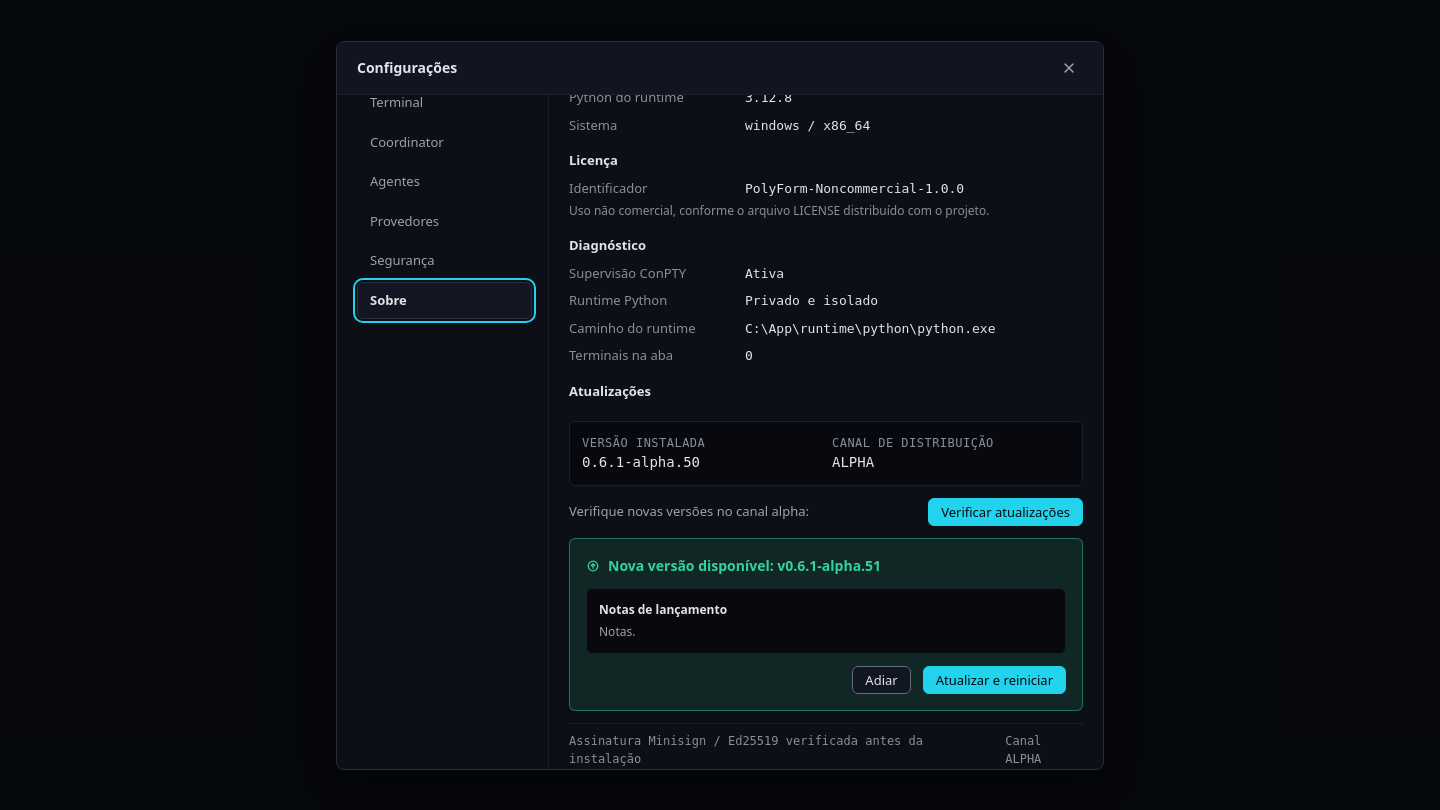
SettingsDialog — Sobre › mantém a mensagem de uma falha recuperável depois da nova verificação
The width and height of the screenshot is (1440, 810).
(page scrolled)
Click the button "Atualizar e reiniciar" at (994, 680), box top-left (923, 666), bottom-right (1066, 694)
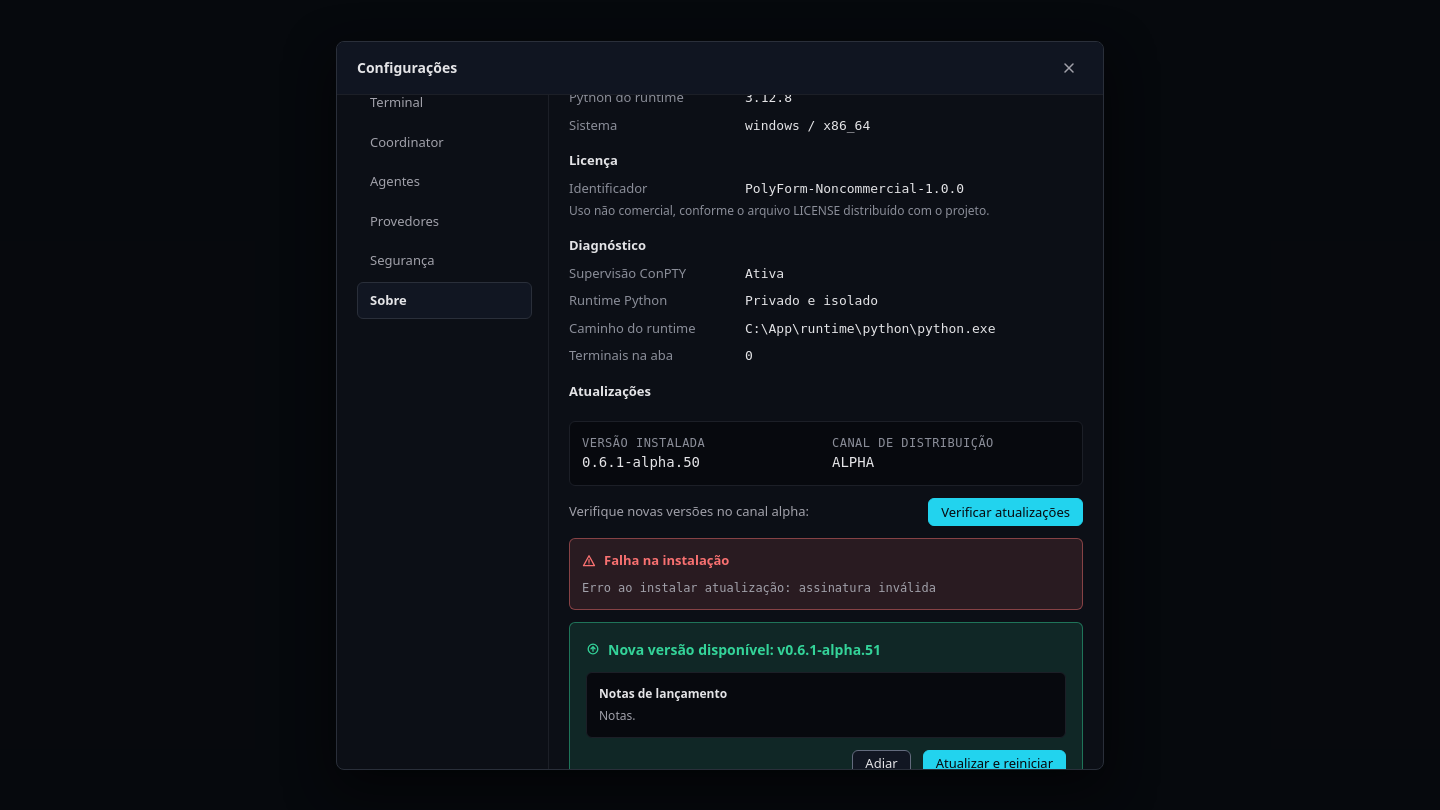
Expected: the text "Erro ao instalar atualização: assinatura inválida" is shown, top-left (582, 580), bottom-right (936, 594)
